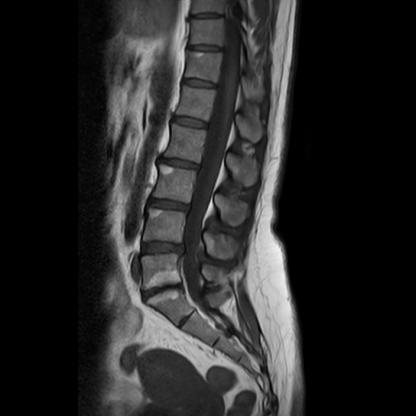Disc Bulgerotation: (140, 238, 186, 258), (143, 282, 183, 300)
